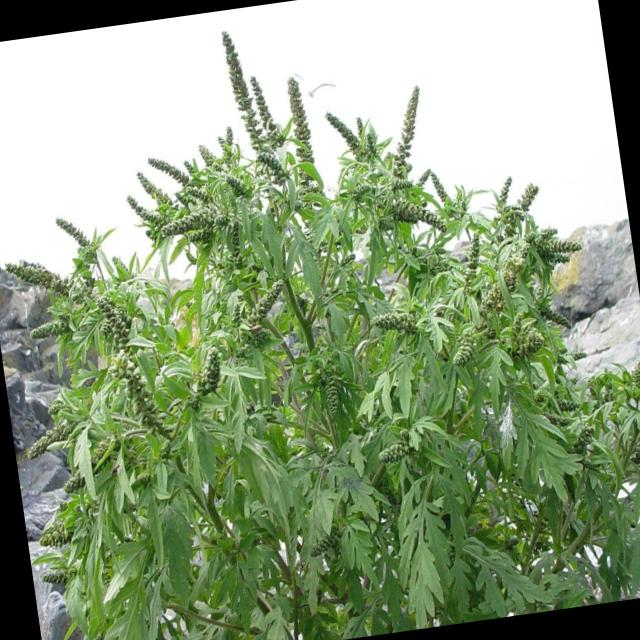ambrosia: (0, 186, 265, 526), (128, 16, 392, 314), (361, 100, 607, 403)
